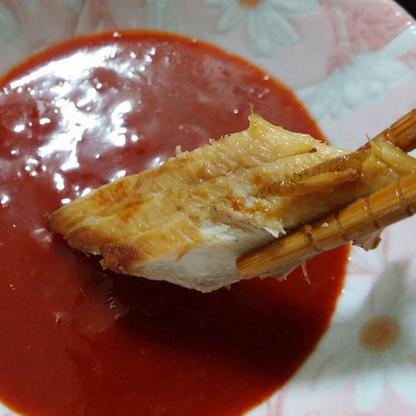Peixe: (63, 99, 416, 300)
